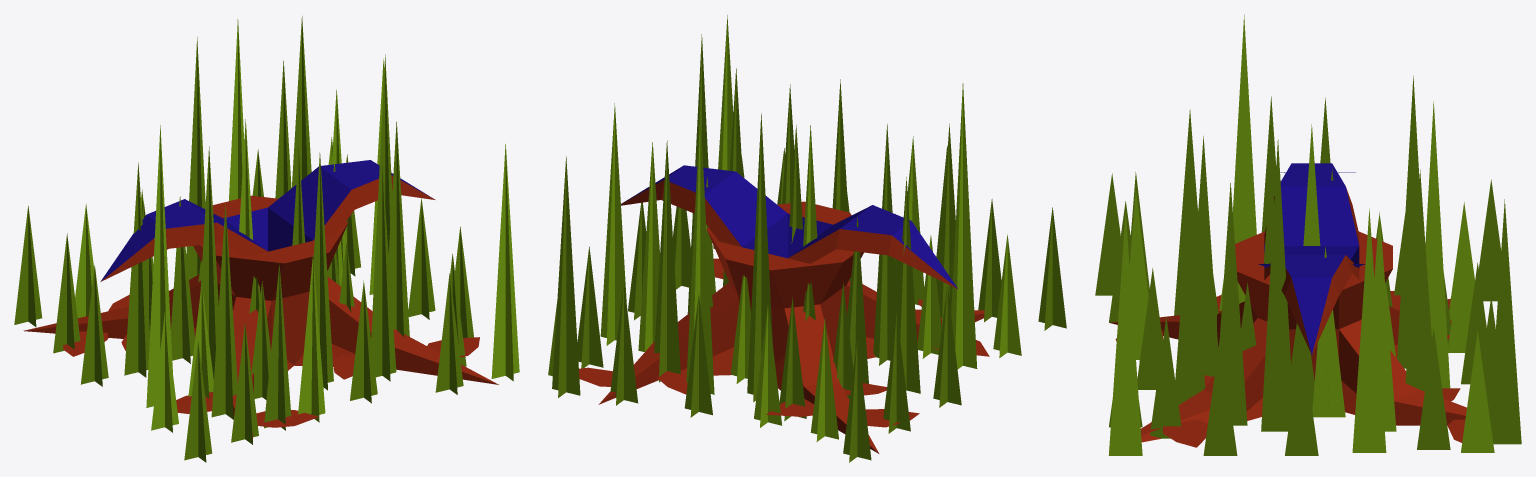
The model's file is obj_vine_5_0.obj.
3 views of the same model, side by side, from view 1: azimuth 30°, elevation 25°; view 2: azimuth 150°, elevation 25°; view 3: azimuth 270°, elevation 25° (orthographic). The views are drawn at different scales.
Size of the model in its own units: 0.9688 by 0.75 by 0.9844.
